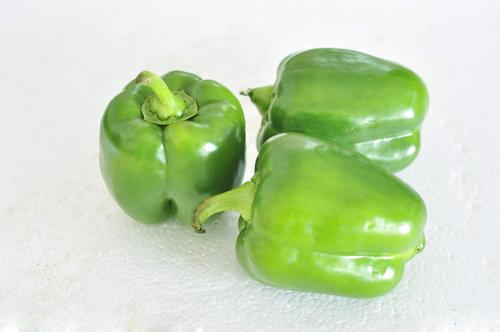fruit_pepper: (191, 131, 429, 301), (95, 66, 250, 231), (238, 46, 431, 174)
